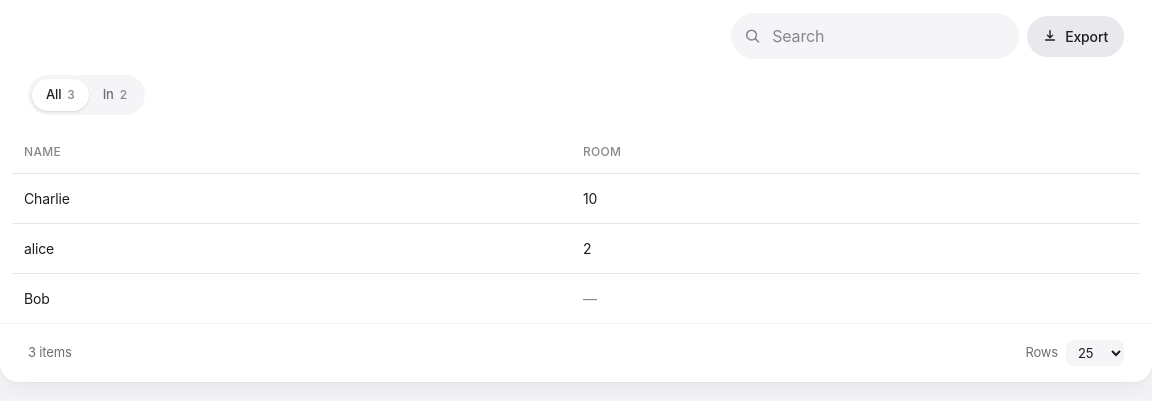
it: DataTable › filters with tabs that show counts
The image size is (1152, 401).
Click the tab "In2".
click(115, 95)  # box [89,79,141,110]
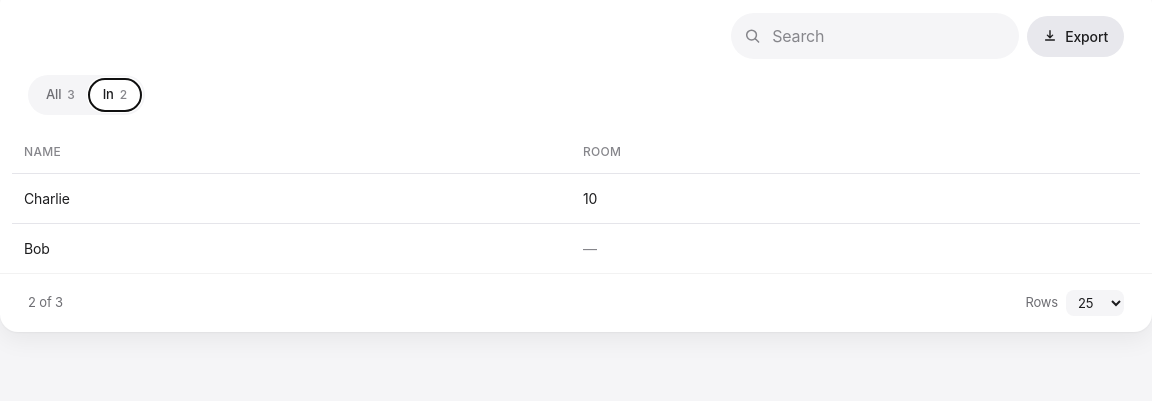
expect the tab "In2" is selected: met, box [89,79,141,110]
